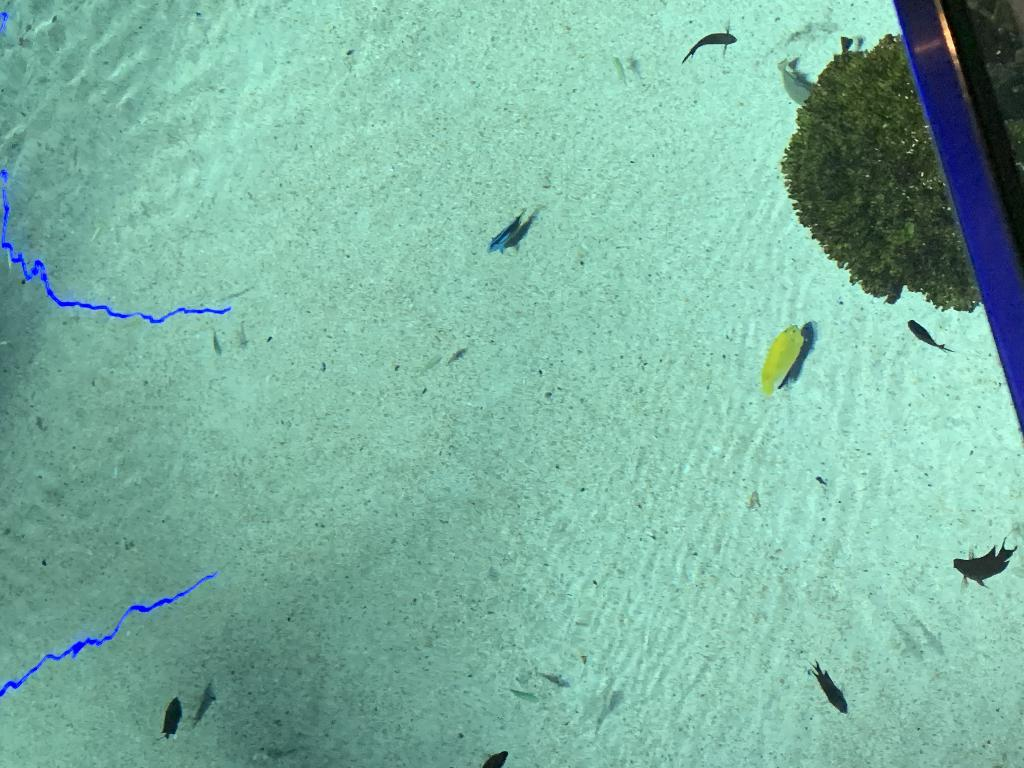fish: (754, 320, 812, 402), (949, 538, 1017, 592), (804, 657, 856, 719), (680, 24, 742, 72), (482, 209, 528, 257), (902, 316, 952, 360), (776, 56, 812, 106), (160, 696, 186, 742), (503, 681, 537, 709), (417, 351, 445, 377), (536, 668, 566, 692), (477, 747, 509, 767), (610, 55, 630, 83), (206, 329, 224, 359)
